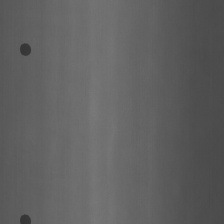oil_spot: (18, 40, 31, 59), (18, 210, 32, 224)
